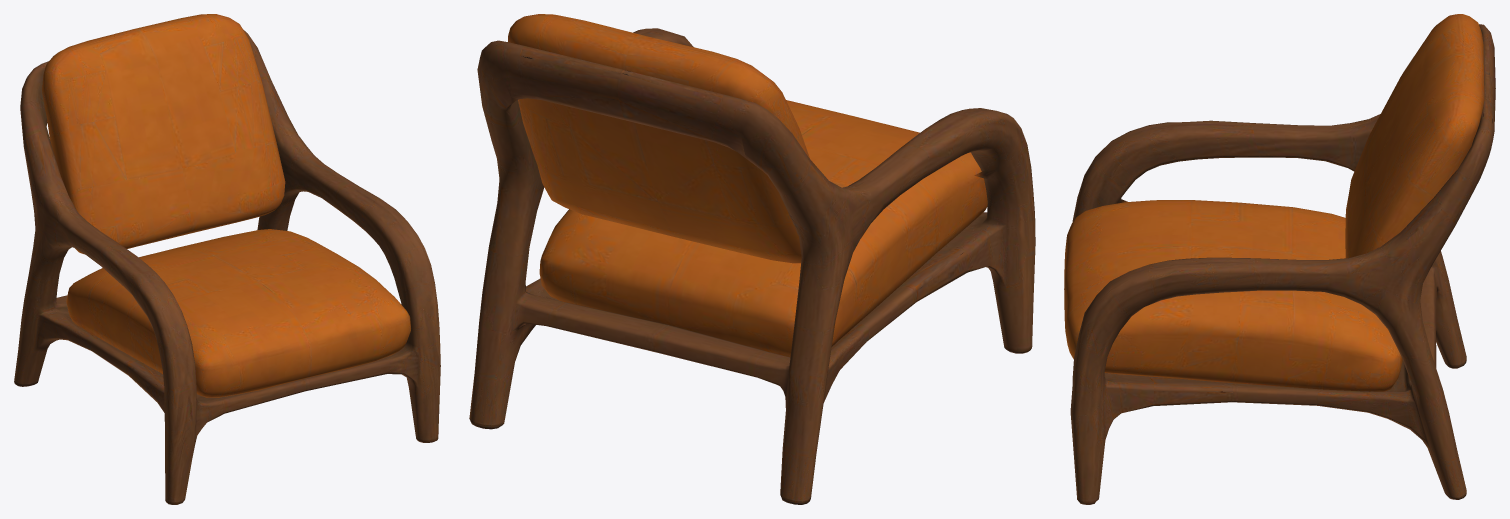
File: sling-armchair-v2.glb
3 views of the same model, side by side, from view 1: azimuth 30°, elevation 25°; view 2: azimuth 150°, elevation 25°; view 3: azimuth 270°, elevation 25° (orthographic). The views are drawn at different scales.
Parts seen in each view (by area): view 1: geometry_0; view 2: geometry_0; view 3: geometry_0.
Boxes of the visible parts, x1=… form: geometry_0: x1=14, y1=14, x2=440, y2=504; geometry_0: x1=469, y1=14, x2=1035, y2=504; geometry_0: x1=1064, y1=14, x2=1495, y2=504.
Size of the model in its own units: 0.8022 by 0.9155 by 0.9561.
Materials: 1 (1 with a texture image).
